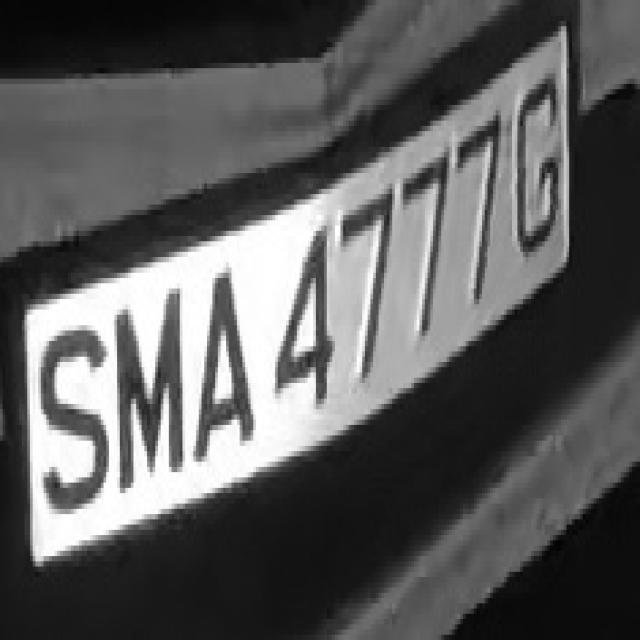4: (267, 210, 343, 420)
7: (332, 168, 403, 388), (447, 105, 512, 320), (398, 142, 460, 352)
A: (185, 252, 264, 477)
G: (509, 58, 569, 272)
M: (106, 283, 188, 493)
S: (30, 310, 117, 535)
